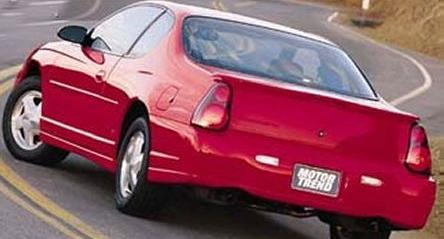back_view: (193, 77, 437, 221)
backlight: (191, 78, 235, 136)
side_glass: (81, 0, 175, 58)
